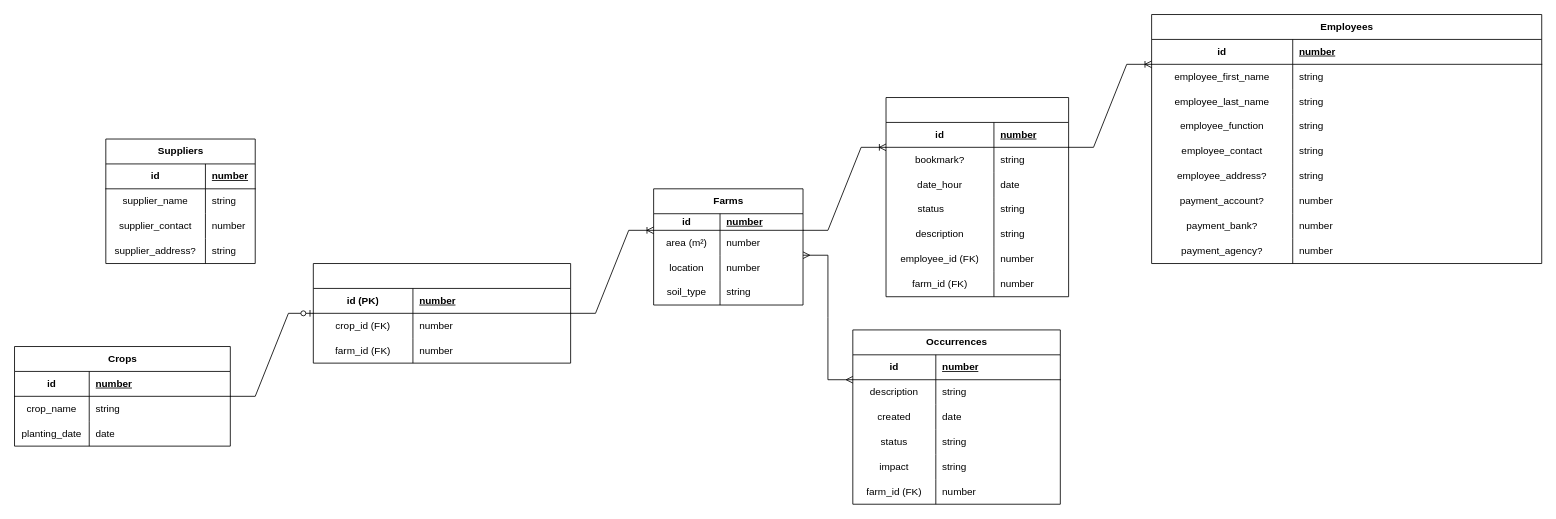
Some shapes in this 1556 by 519 pixel diagram are drawn without their labels. Each missing label, with the box of its shape:
Activities: (885, 97, 1069, 297)
Harvests: (312, 263, 571, 363)
